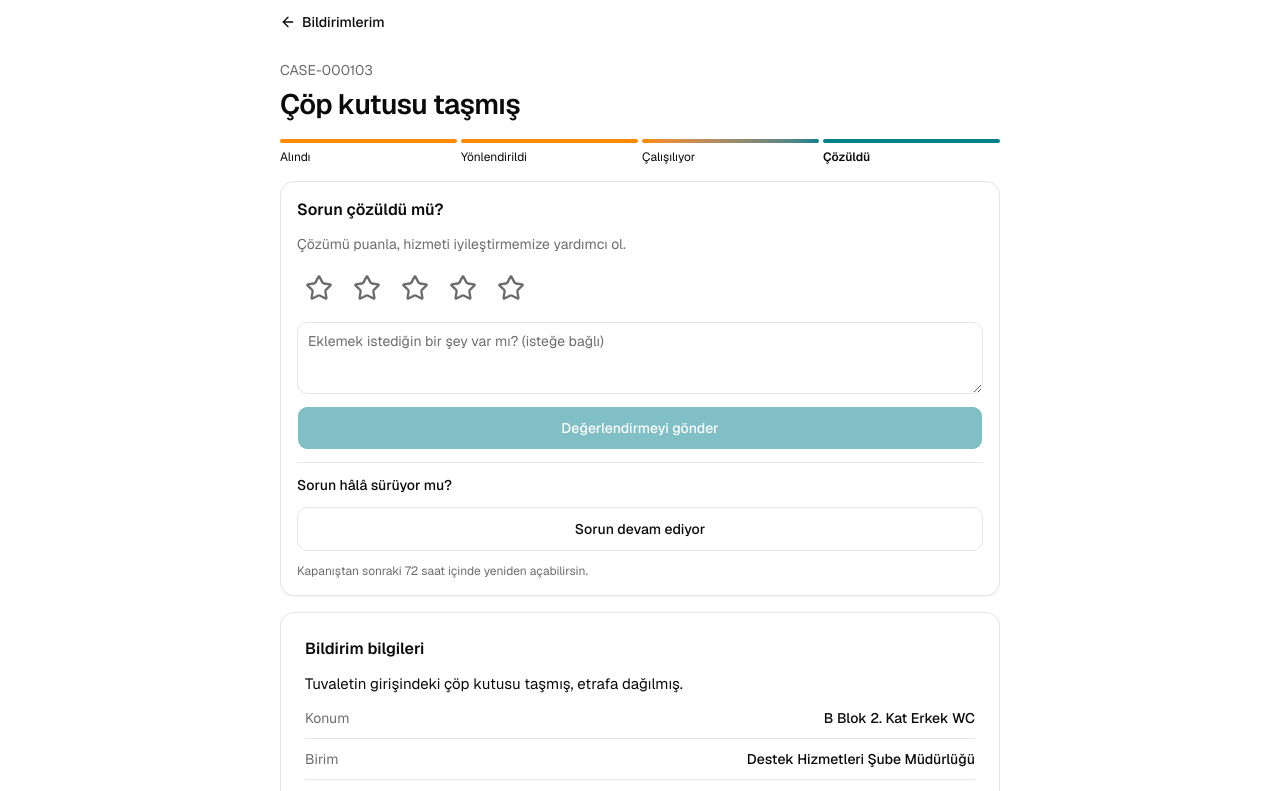
Scenario: reopening a closed case › asks for a reason and reopens the case
Click the button "Sorun devam ediyor" at (640, 529), box top-left (297, 507), bottom-right (983, 551)
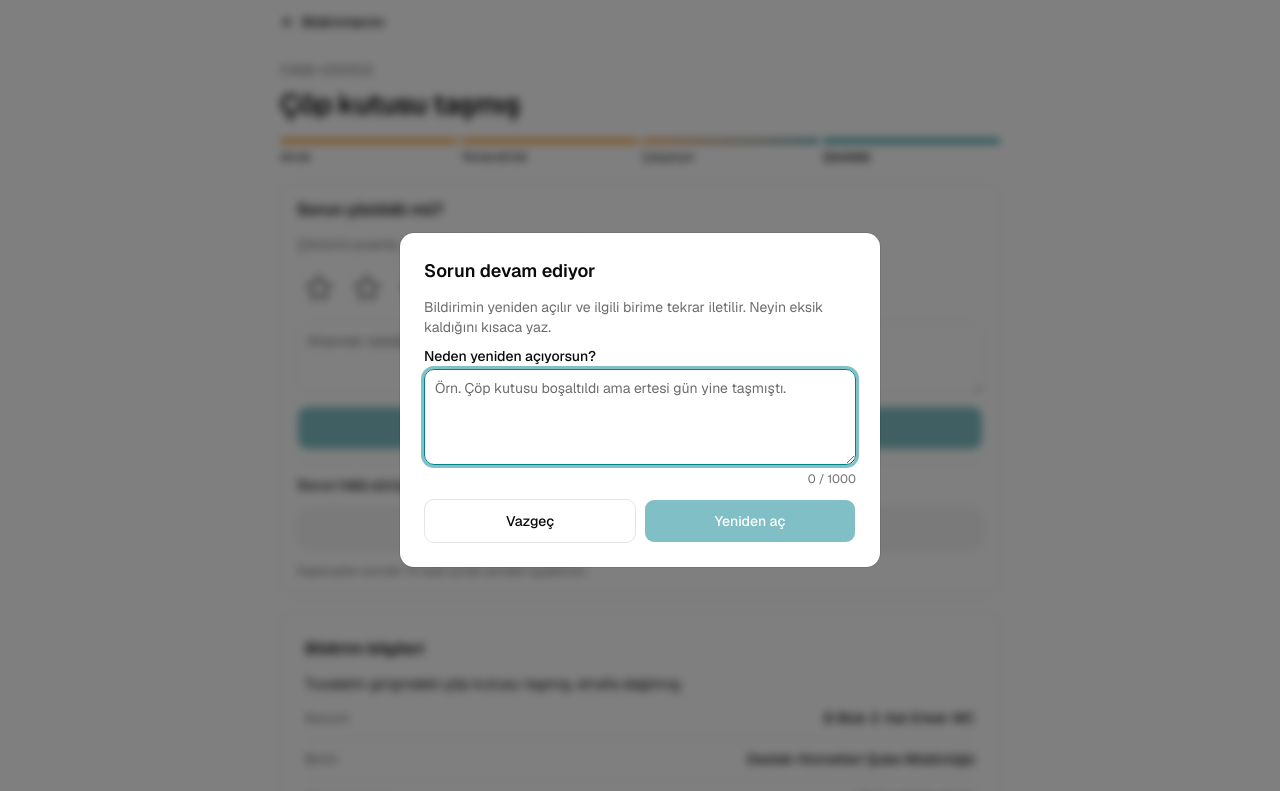
Expected: the button "Yeniden aç" is disabled, top-left (644, 499), bottom-right (856, 543)
Type "Ertesi gün yine taşmıştı." into the text box labelled "Neden yeniden açıyorsun?" at (640, 417), box top-left (424, 369), bottom-right (856, 465)
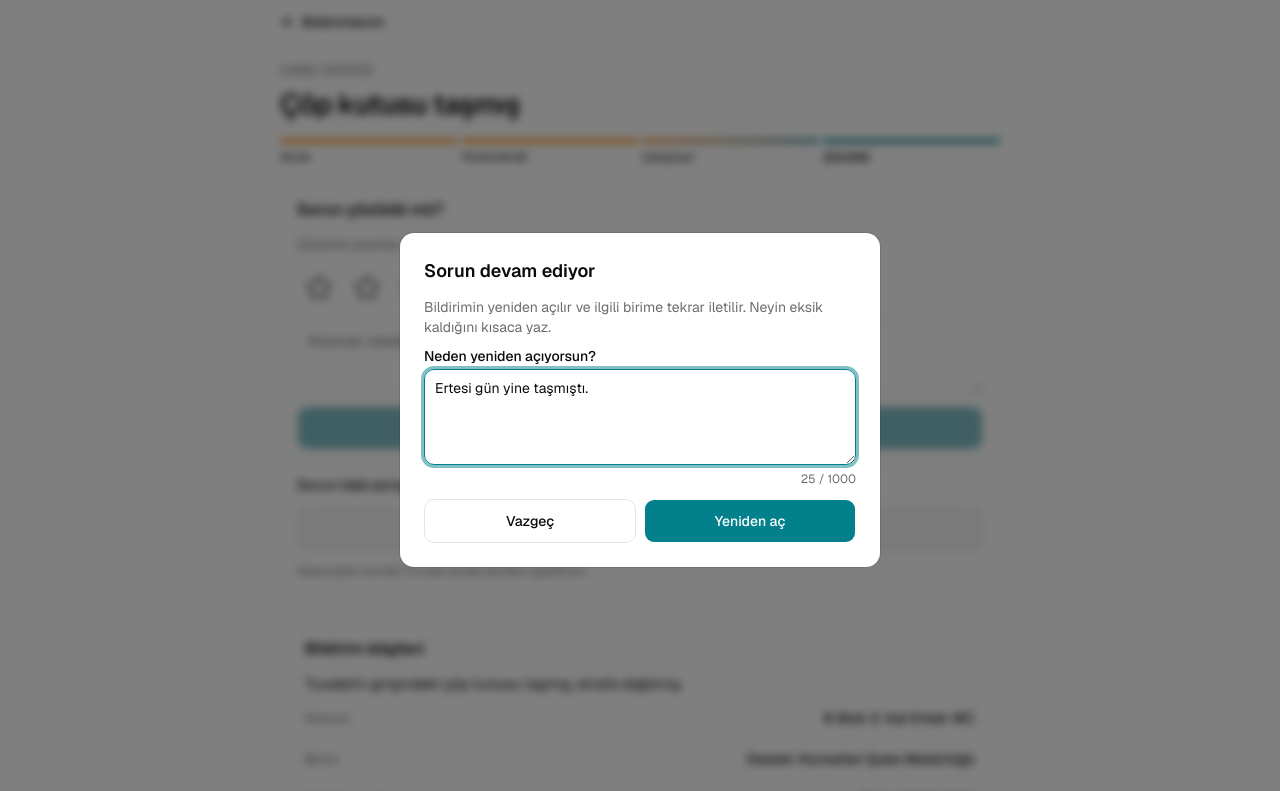
Click the button "Yeniden aç" at (750, 521), box top-left (644, 499), bottom-right (856, 543)
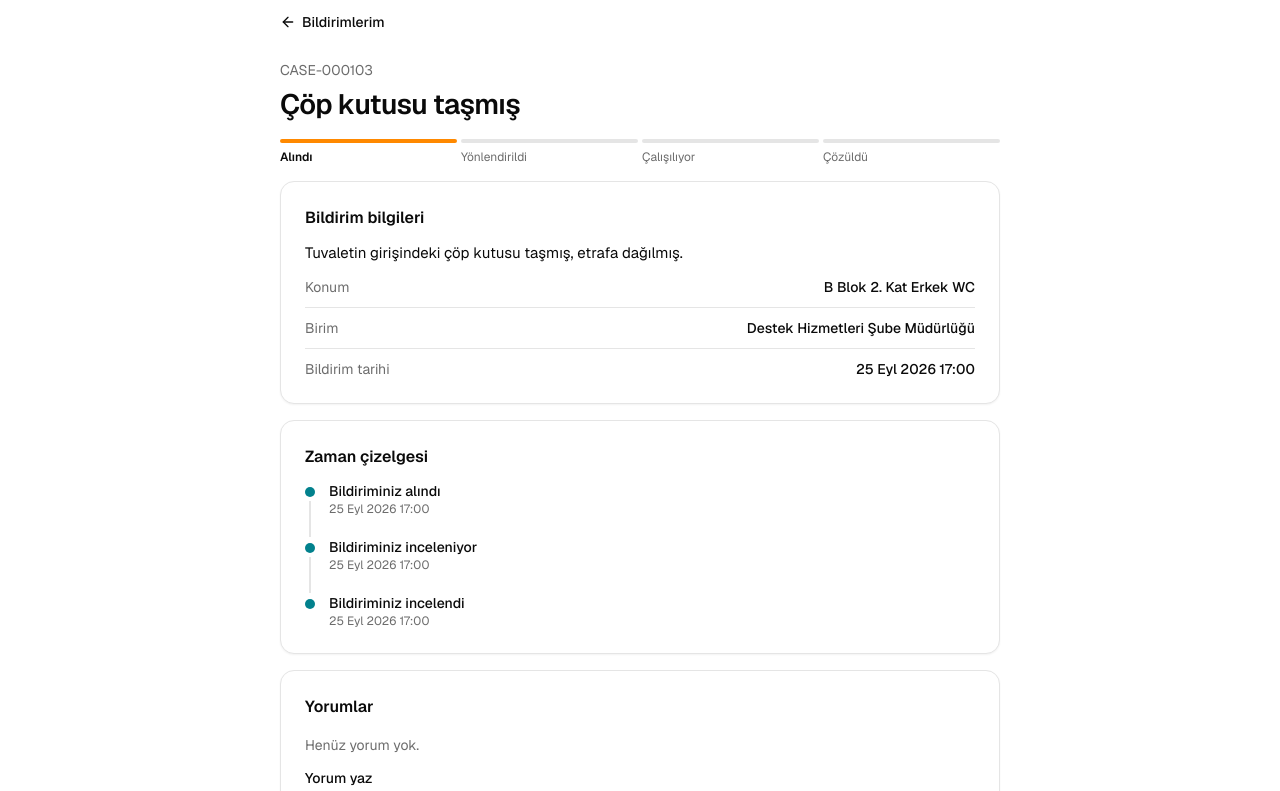
Expected: the dialog is gone
